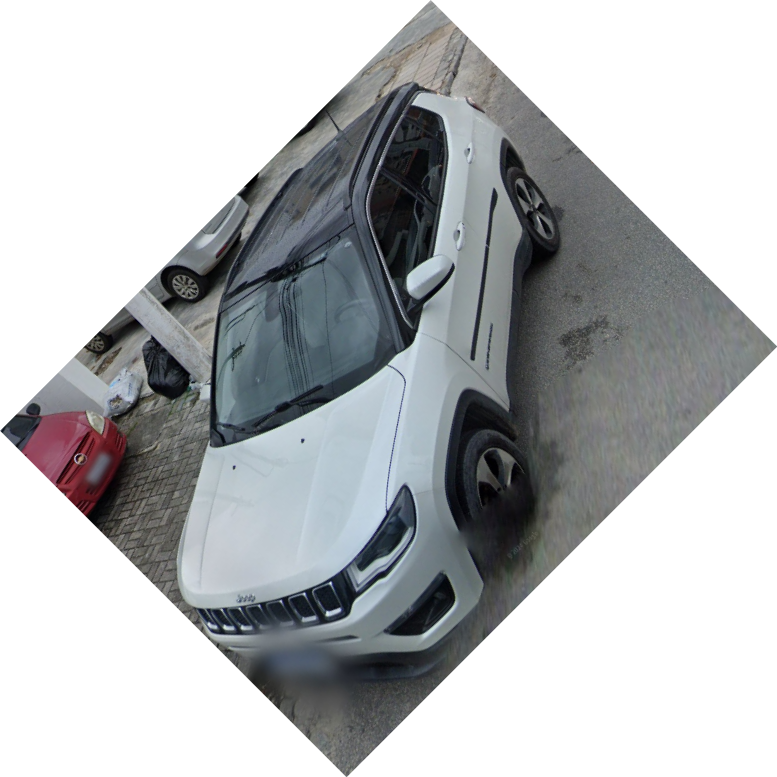car: (172, 75, 566, 688)
